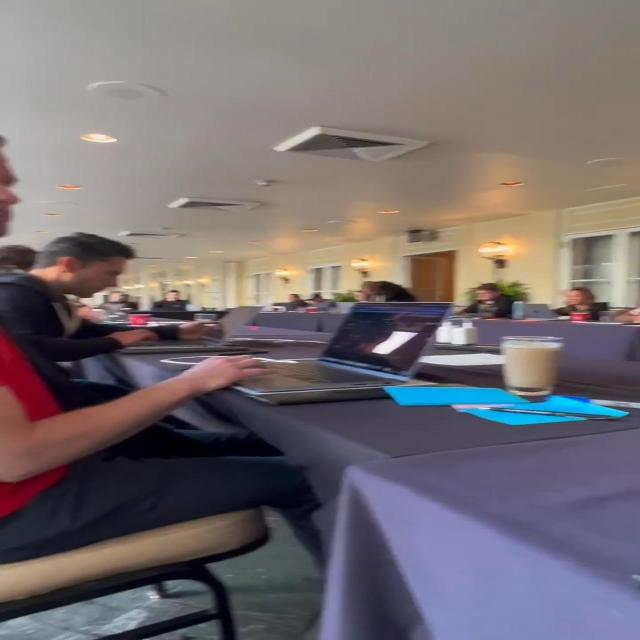NO-Mask: (70, 256, 127, 298), (0, 153, 22, 238), (566, 291, 584, 305), (476, 290, 494, 301), (110, 294, 126, 303), (355, 292, 367, 301), (168, 292, 179, 300), (364, 290, 378, 296), (288, 294, 297, 302), (309, 300, 320, 304)
